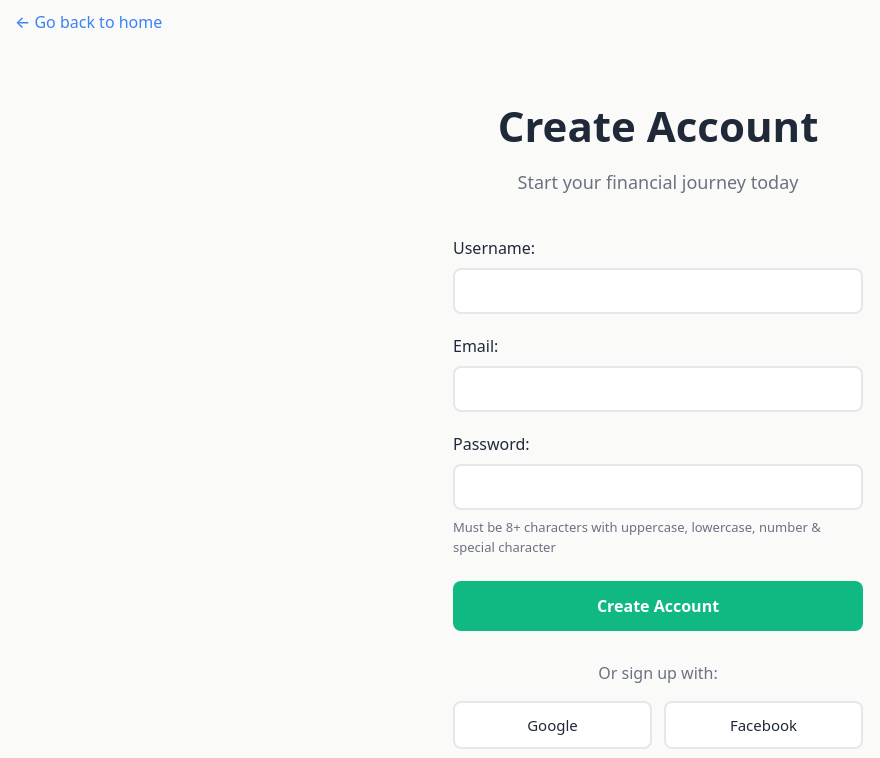
Test: Register Page › shows API error message
Step 1. Type "test" into the field labelled "Username:" → [658, 291], box x1=453 y1=268 x2=863 y2=314
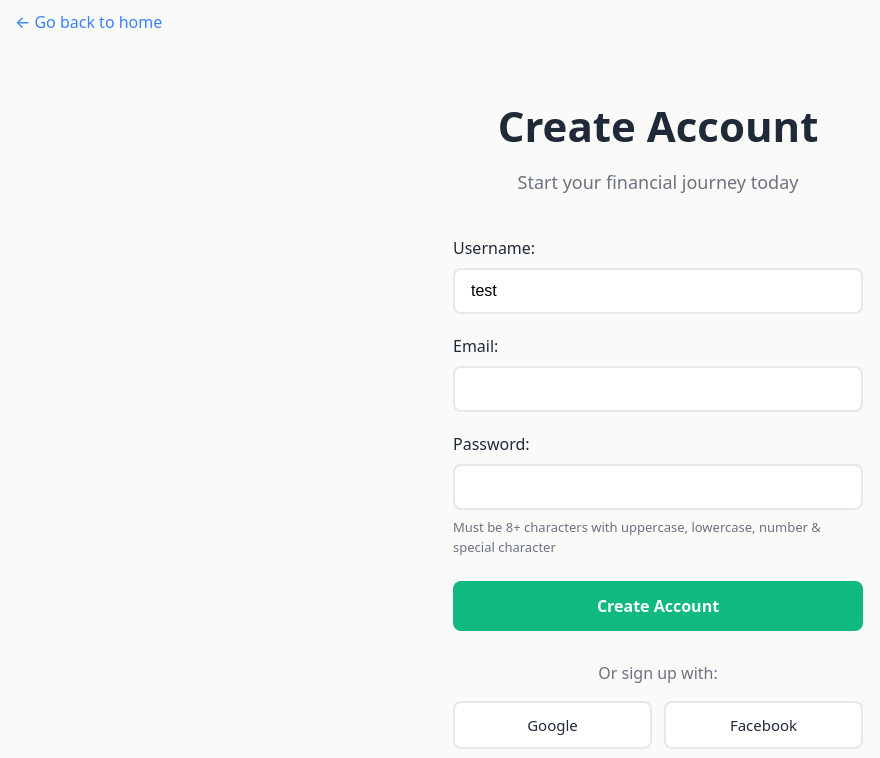
Step 2. Type "test@example.com" into the field labelled "Email:" → [658, 389], box x1=453 y1=366 x2=863 y2=412
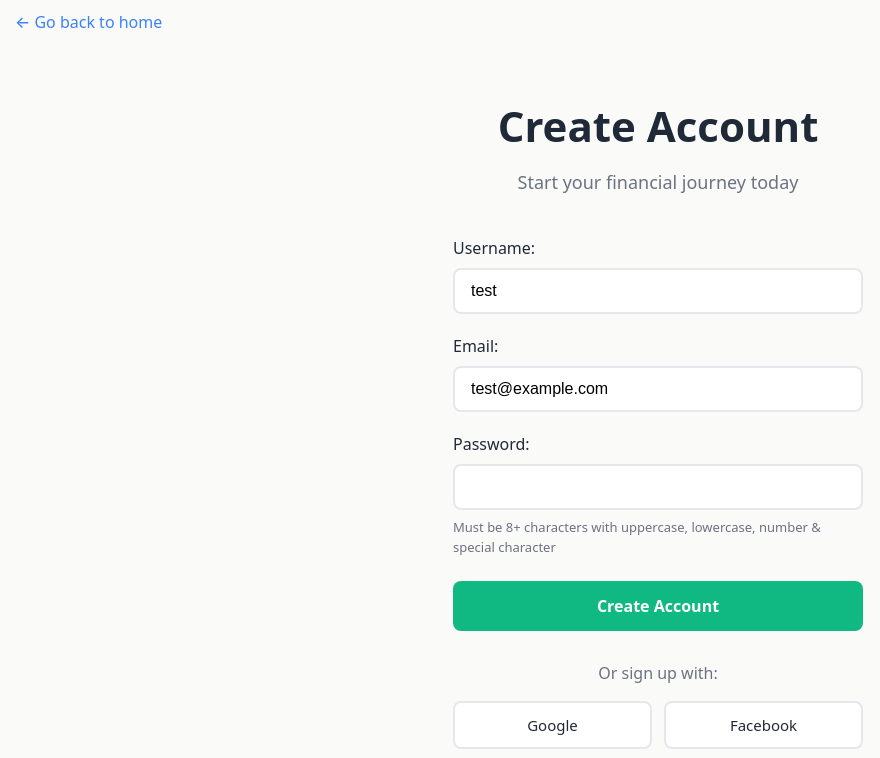
Step 3. Type "password123" into the password field labelled "Password:" → [658, 487], box x1=453 y1=464 x2=863 y2=510
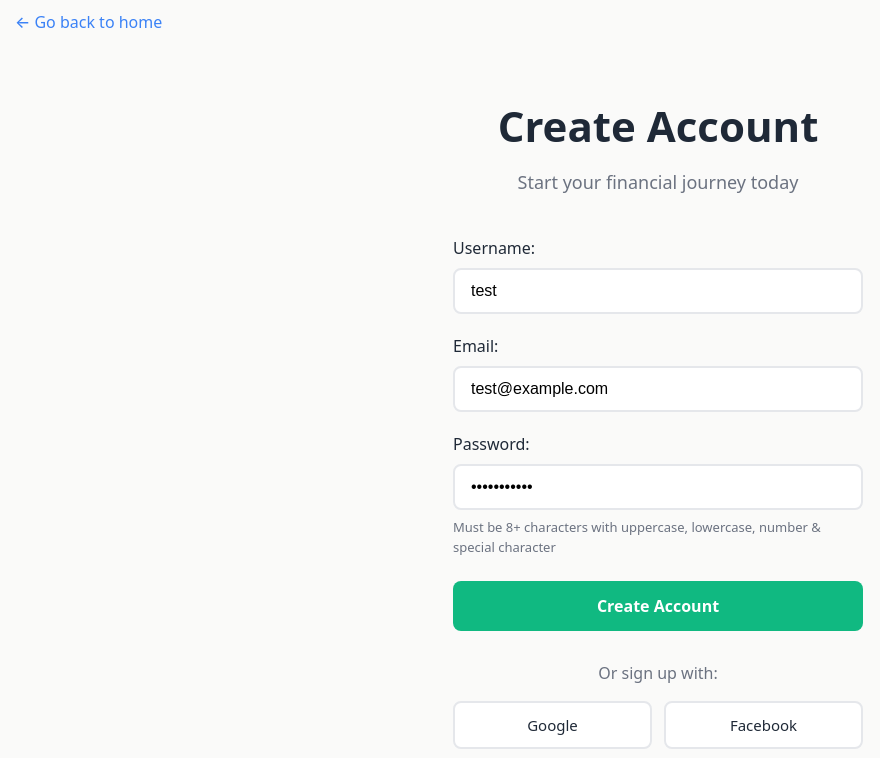
Step 4. Click the button "Create Account" → [658, 606], box x1=453 y1=581 x2=863 y2=631
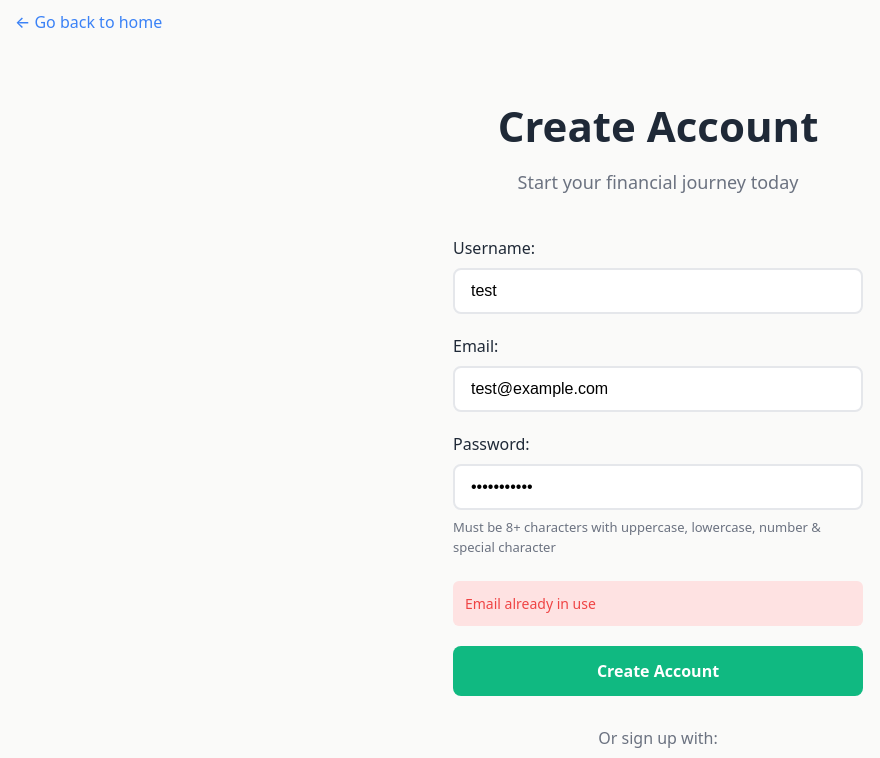
Check: the text "Email already in use" is shown, box x1=453 y1=581 x2=863 y2=626
